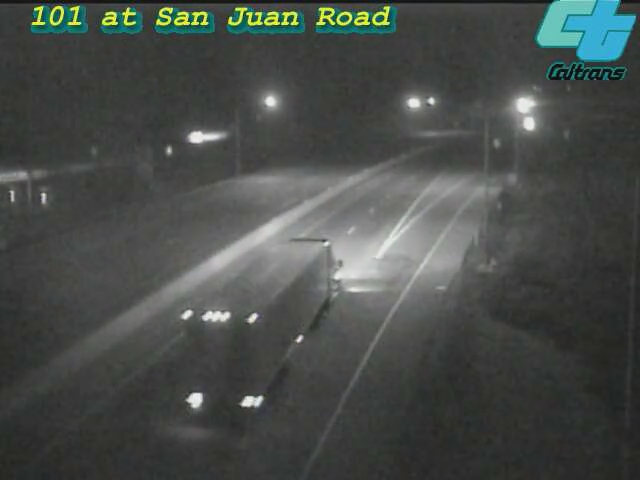vehicle: (164, 310, 274, 420), (507, 99, 557, 149), (502, 79, 552, 129)
